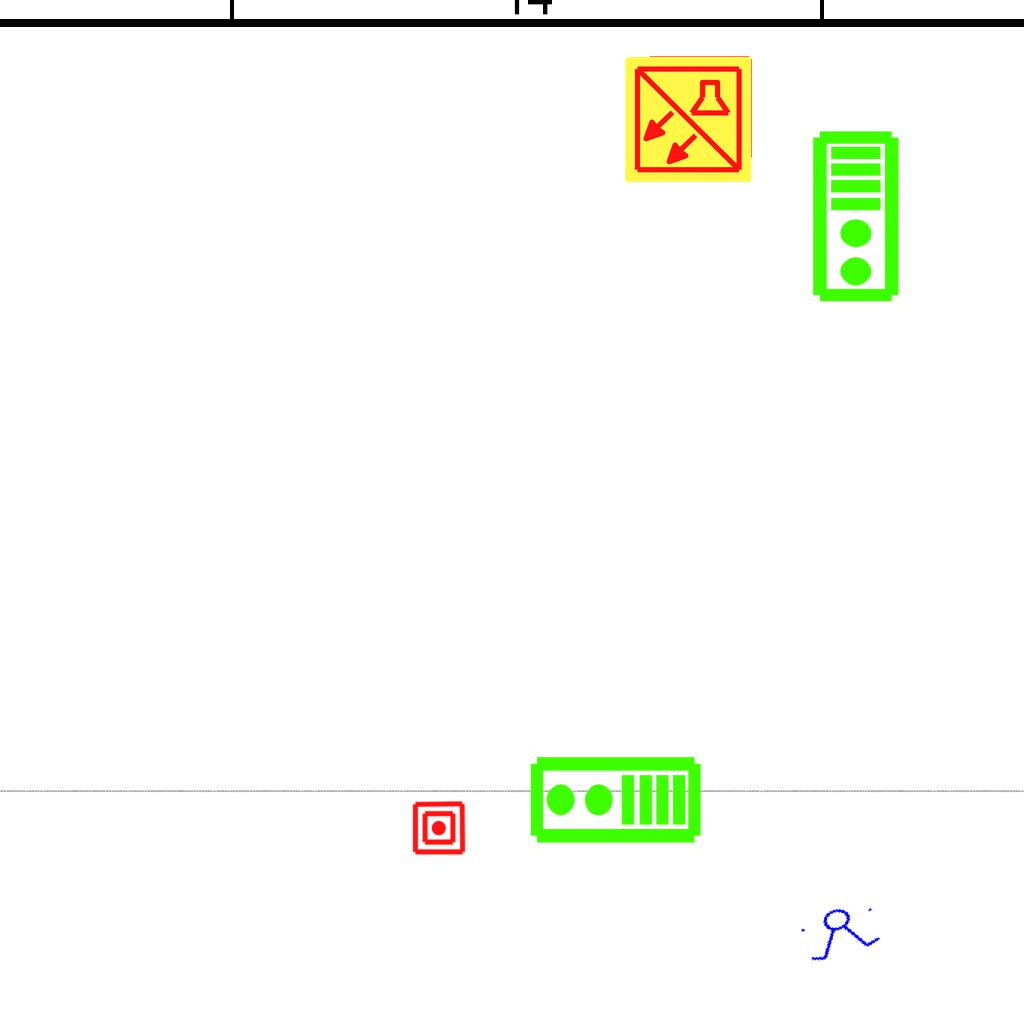Gegensprechanlage_mit_Video: (527, 754, 703, 849), (810, 129, 905, 305)
NAM-Nichtautomatischer_Melder: (411, 800, 467, 856)
OKW_Multisensormelder_(Kombination_optischer_Rauch-Kahlenmonoxid_Waerme-Melder): (622, 53, 754, 185)
Serienschalter: (793, 896, 889, 968)
